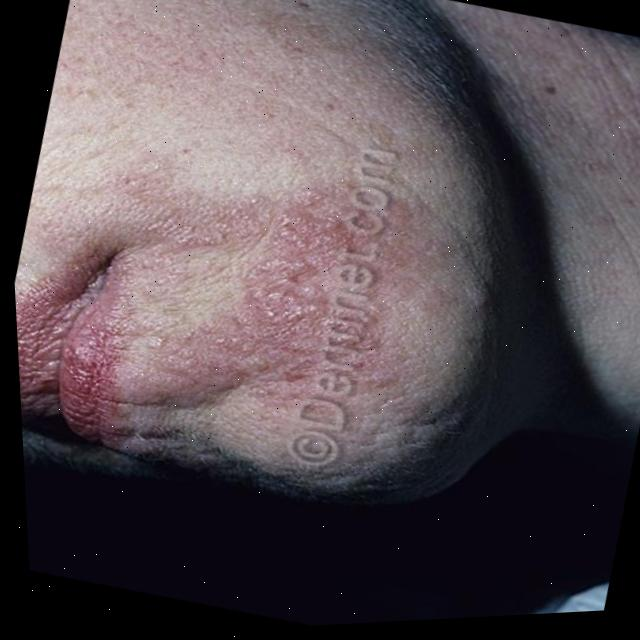Rosacea: (108, 134, 463, 455)
